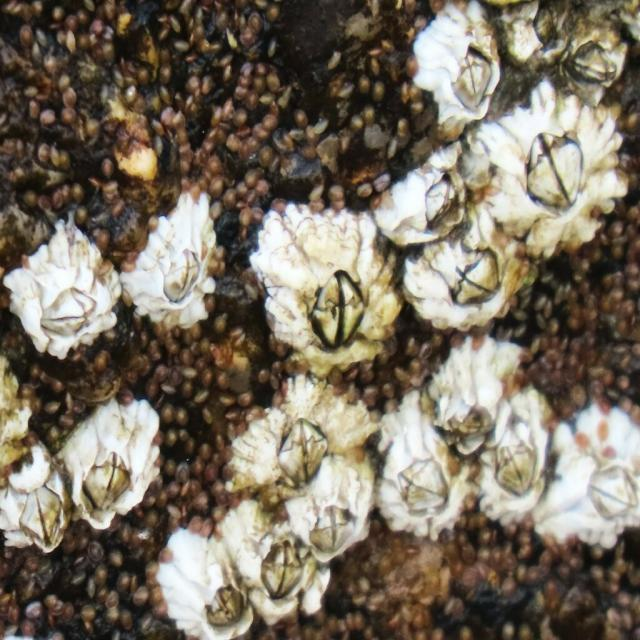barnacles: (262, 205, 399, 382), (494, 100, 619, 259), (402, 213, 539, 335), (223, 372, 361, 493), (5, 226, 115, 363), (555, 386, 640, 562), (64, 404, 164, 540), (383, 416, 476, 546), (409, 7, 501, 135), (131, 196, 216, 334), (422, 334, 508, 452), (484, 385, 547, 543), (163, 536, 257, 640), (0, 450, 74, 570), (252, 519, 327, 629), (382, 141, 462, 244), (286, 459, 368, 557)
